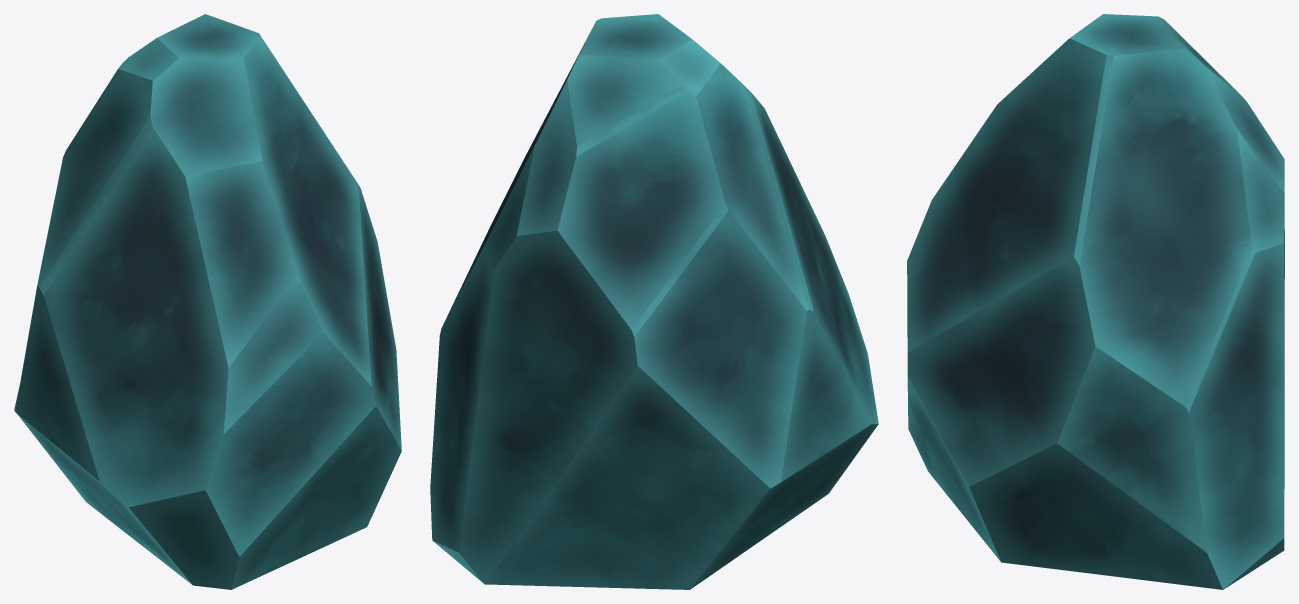
The model's file is crystal.dae.
3 renders of one model, left to right at view 1: azimuth 30°, elevation 25°; view 2: azimuth 150°, elevation 25°; view 3: azimuth 270°, elevation 25°, orthographic. The views are drawn at different scales.
Parts seen in each view (by area): view 1: Crystal; view 2: Crystal; view 3: Crystal.
Part boxes in pixels (left/top/right/bottom): Crystal: left=14, top=14, right=401, bottom=589; Crystal: left=430, top=14, right=878, bottom=589; Crystal: left=907, top=14, right=1284, bottom=589.
Bounding box in the file's own units: 0.6986 × 0.6972 × 0.9856.
Materials: 1 (1 with a texture image).
